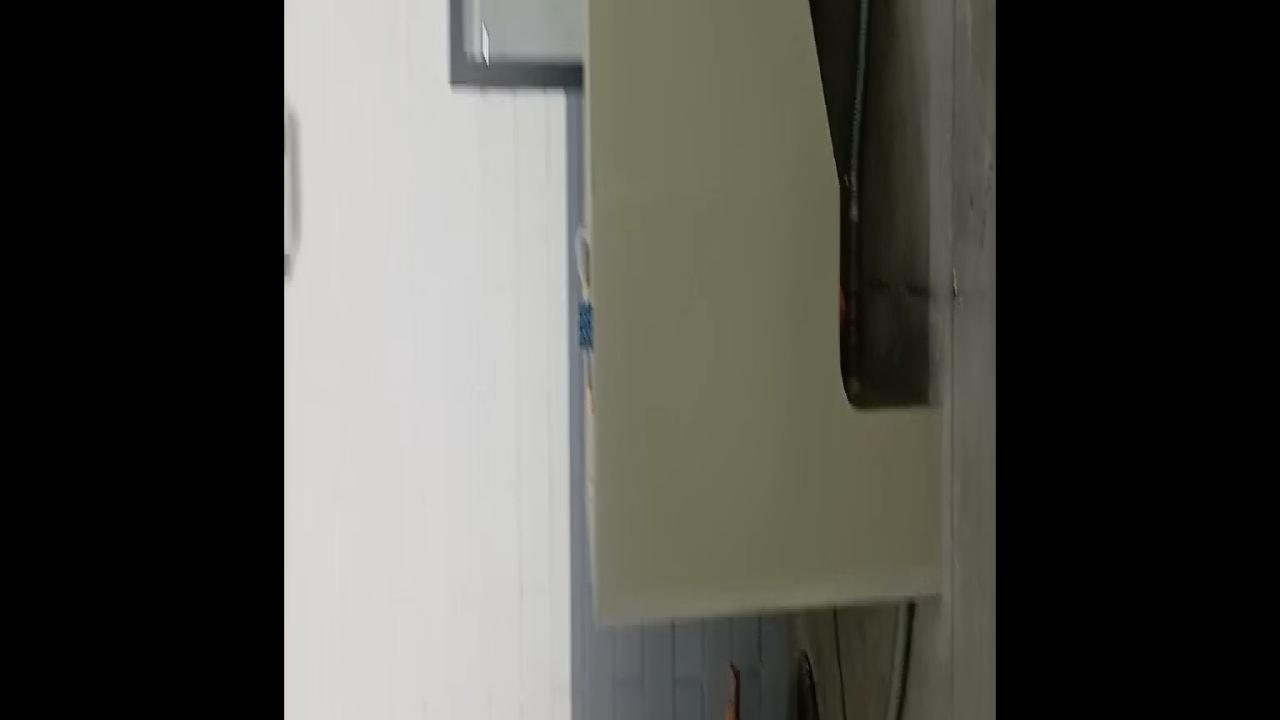Cube: (576, 302, 592, 352)
